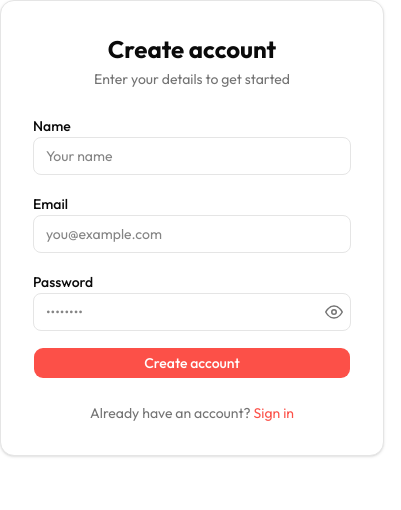
Test case: RegisterForm › shows generic error on network failure
The image size is (401, 510).
Type "Tim" into the field labelled "Name" at [192, 156], box left=33, top=137, right=351, bottom=175
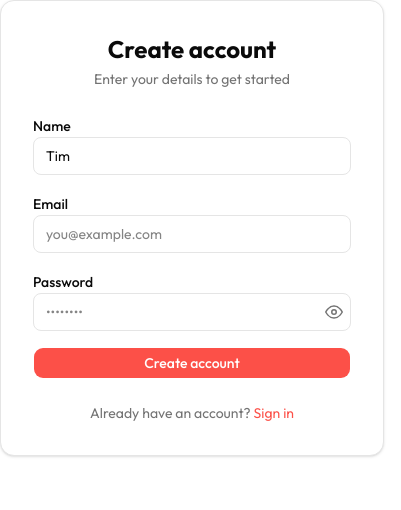
Type "tim@test.com" into the field labelled "Email" at [192, 234], box left=33, top=215, right=351, bottom=253
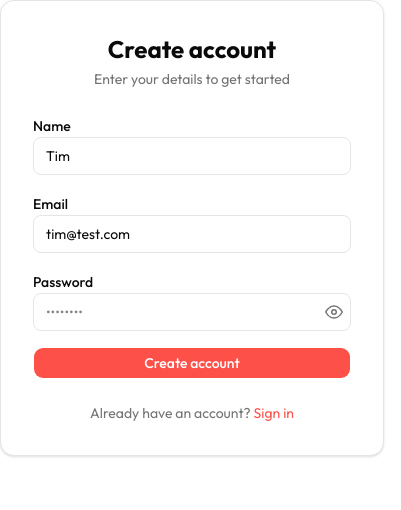
Type "password123" into the password field labelled "Password" at [192, 312], box left=33, top=293, right=351, bottom=331
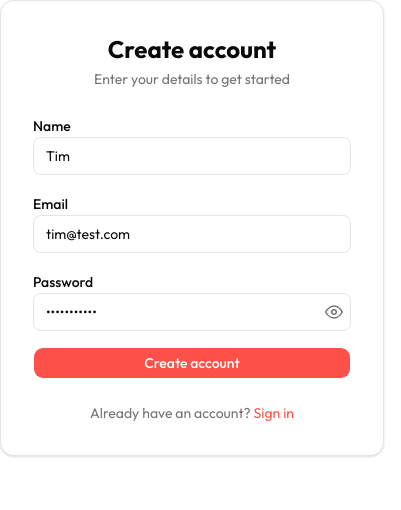
Submit the form "Name Email Password Create account", box left=33, top=113, right=351, bottom=379
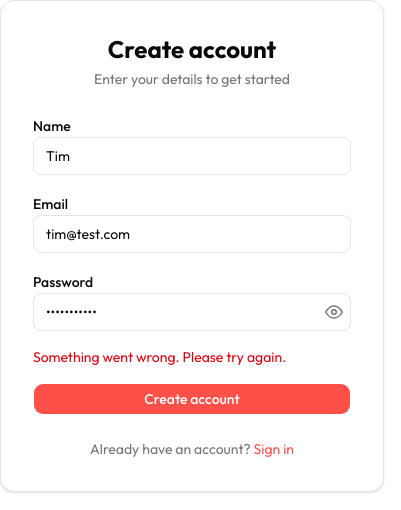
Expected: the text "Something went wrong. Please try again." is shown, left=33, top=348, right=286, bottom=366
